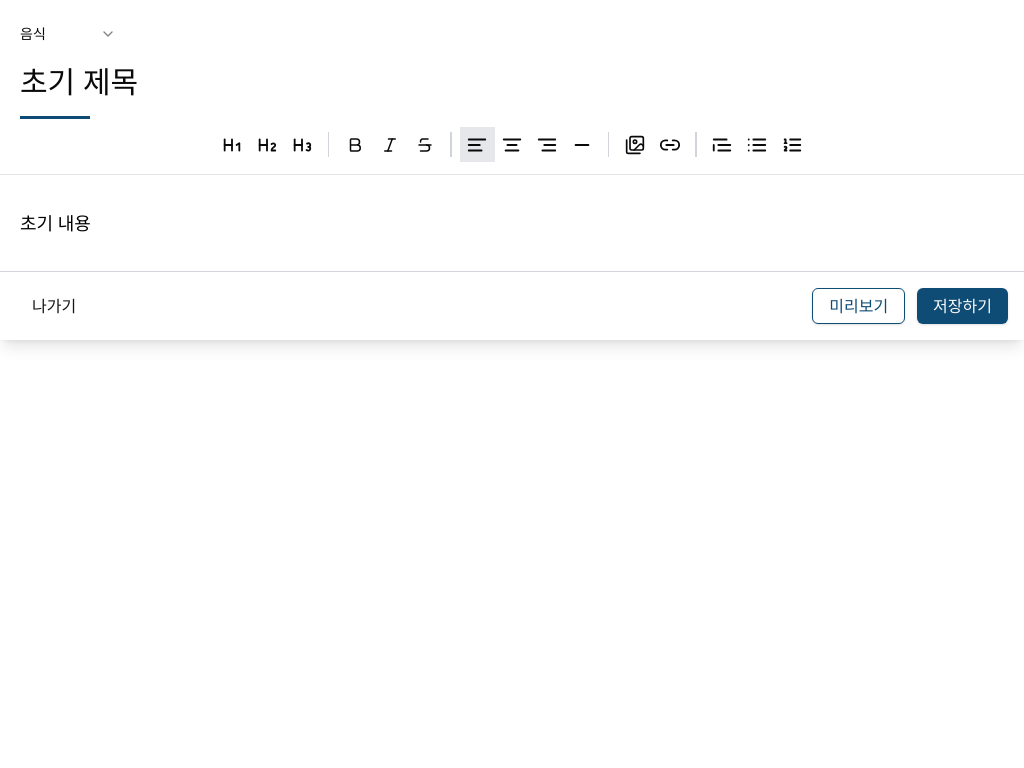
src/features/review/editor/ui/Editor.tsx › 기능 테스트 › 입력된 정보를 미리보기할 수 있다.
The width and height of the screenshot is (1024, 768).
Click the button "미리보기": (859, 306) [812, 288, 905, 324]
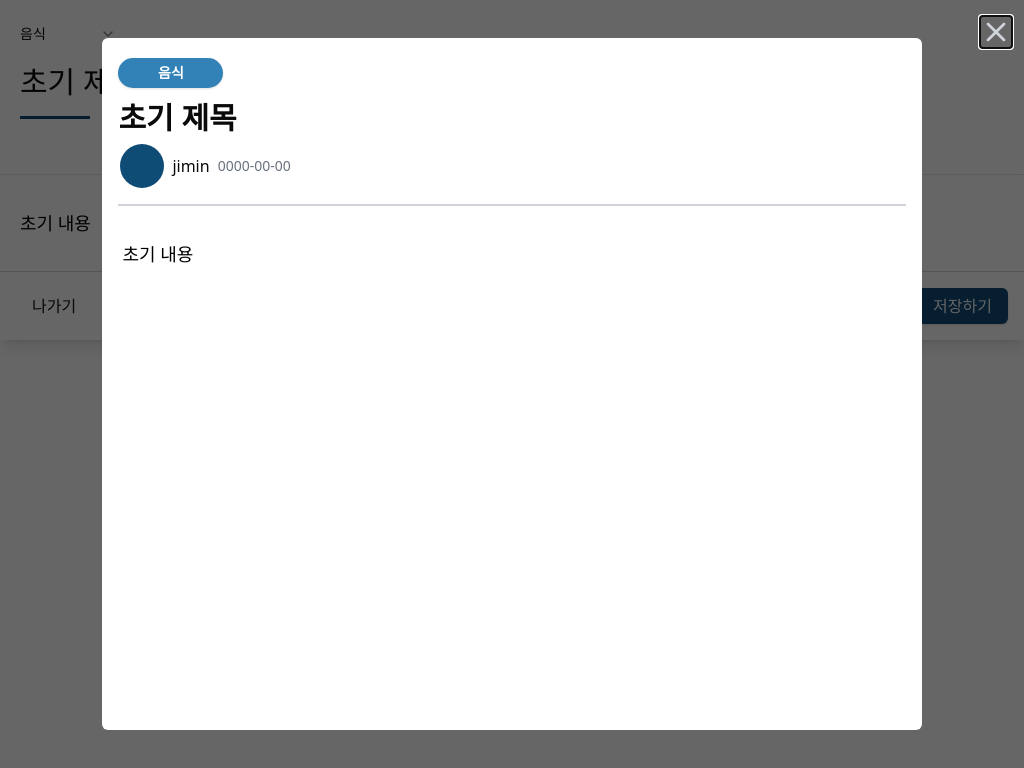
Expected: the heading "초기 제목" is shown, [118, 97, 237, 138]
Expected: the text "음식" is shown, [118, 58, 223, 88]
Expected: the text "초기 내용" is shown, [122, 242, 193, 266]
Click the button named "창닫기": (996, 32) [980, 16, 1012, 48]
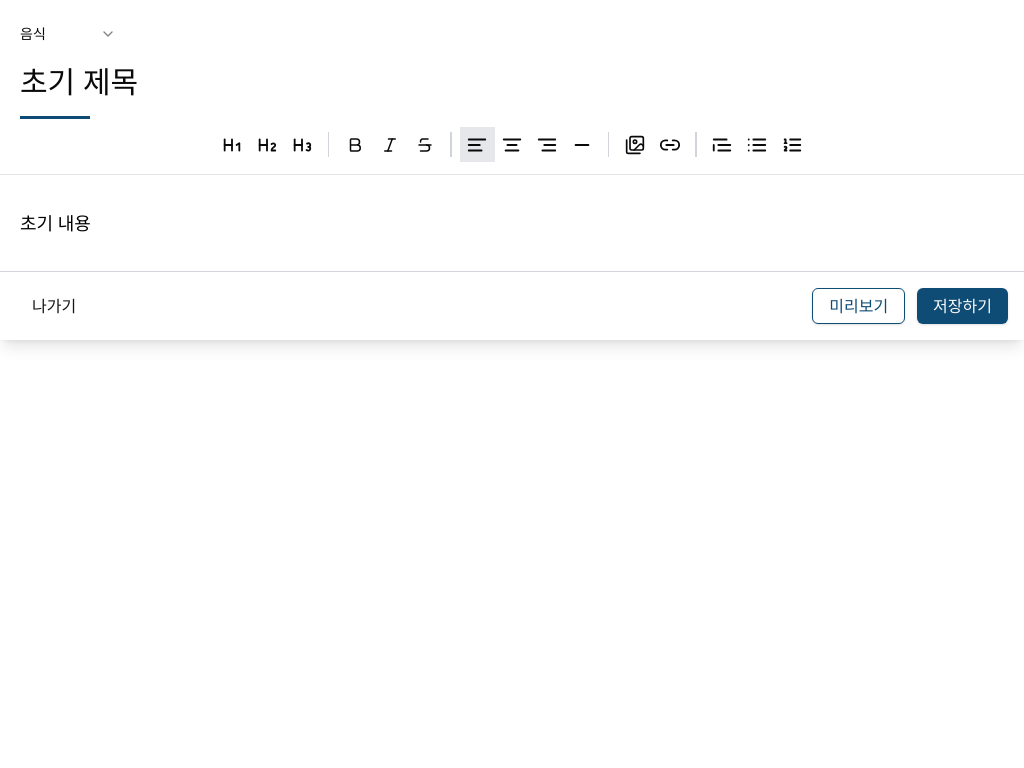
Expected: the dialog is gone
